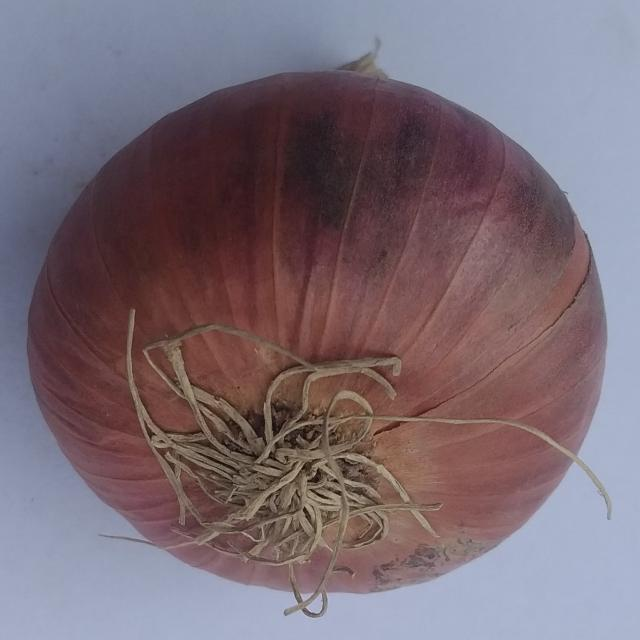onion: (26, 37, 613, 618)
